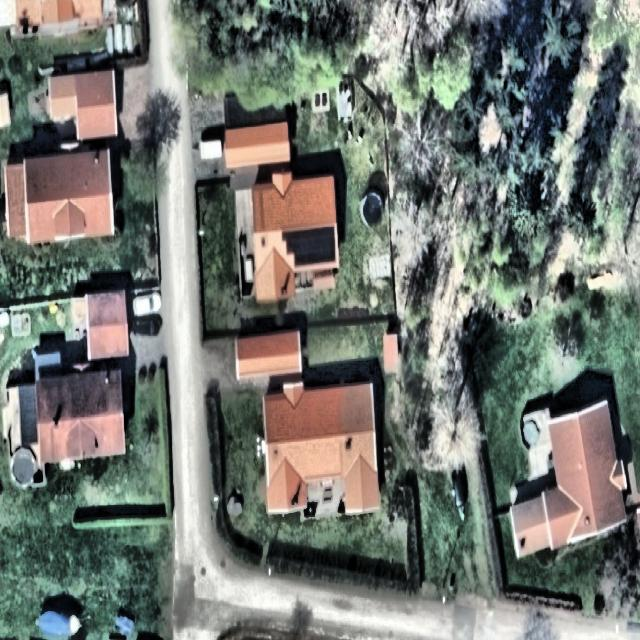roof_pv: (281, 226, 338, 267)
